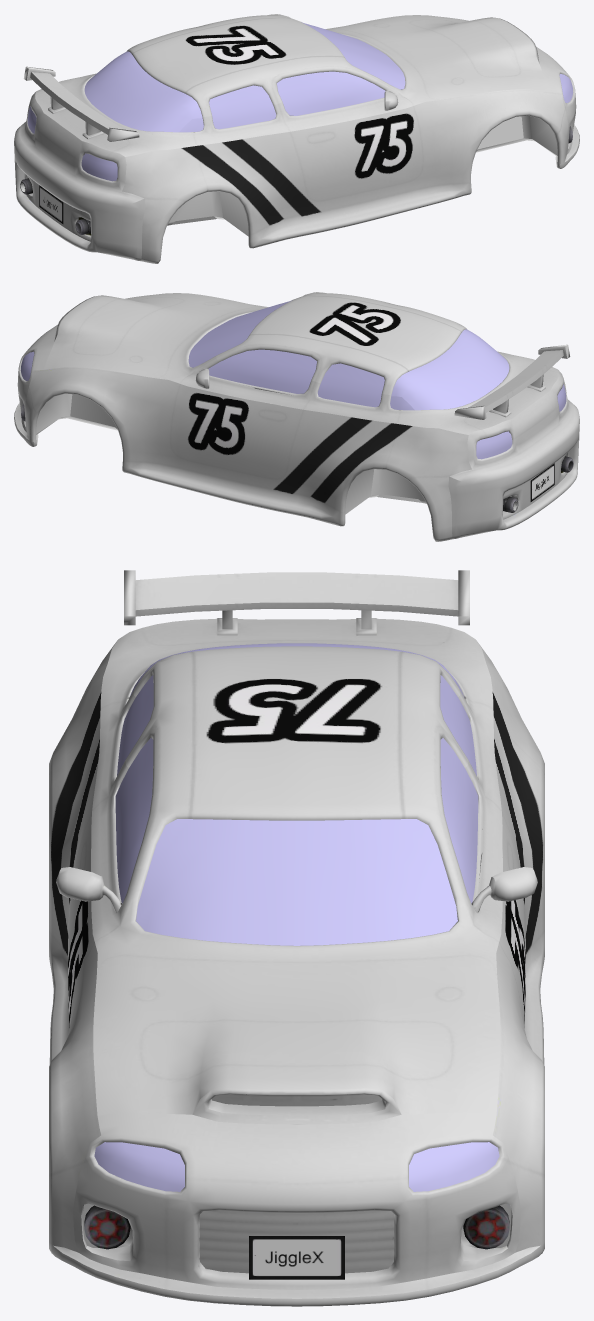
Rendered from chassis.FBX.
3 views of the same model, one above another, from view 1: azimuth 30°, elevation 25°; view 2: azimuth 150°, elevation 25°; view 3: azimuth 270°, elevation 25° (orthographic). The views are drawn at different scales.
Visible parts, largest first — view 1: Mesh02, Mesh01, Mesh03, Mesh04; view 2: Mesh02, Mesh01, Mesh03, Mesh04; view 3: Mesh02, Mesh01, Mesh04.
Boxes of the visible parts, <box> form: Mesh02: <box>14,14,579,263</box>; Mesh01: <box>27,22,573,181</box>; Mesh03: <box>167,115,557,236</box>; Mesh04: <box>20,126,572,234</box>; Mesh02: <box>14,292,579,541</box>; Mesh01: <box>20,300,566,459</box>; Mesh03: <box>36,387,426,514</box>; Mesh04: <box>21,404,573,512</box>; Mesh02: <box>49,570,544,1306</box>; Mesh01: <box>94,643,499,1191</box>; Mesh04: <box>84,1205,509,1249</box>.
Size of the model in its own units: 2.35 by 0.9816 by 0.6572.
3 materials, 1 textured.
